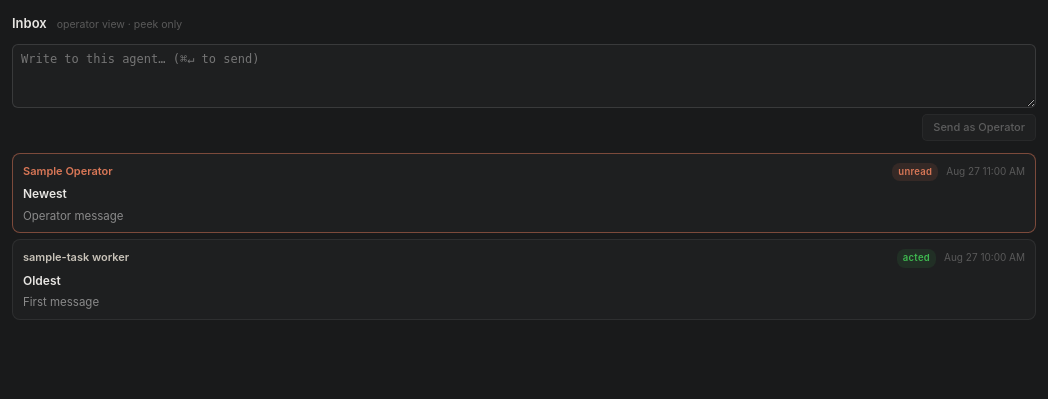
Test case: MailPane › sends operator mail with operator:true and no senderThreadRef
This screenshot has width=1048, height=399.
Expected: the text "Operator message" is shown, [23, 209, 124, 223]
Type "New instruction" into the text box named "Message to this agent" at (524, 76), box [12, 44, 1036, 108]
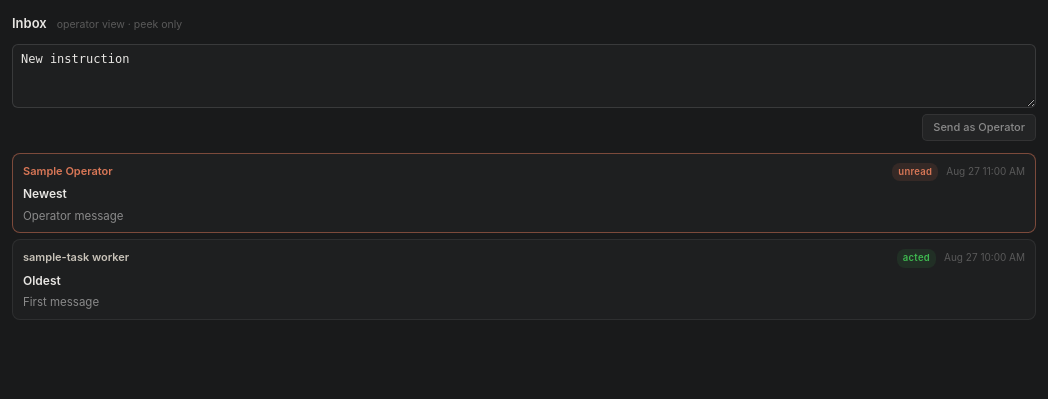
Click the button "Send as Operator" at (979, 128), box [922, 114, 1036, 141]
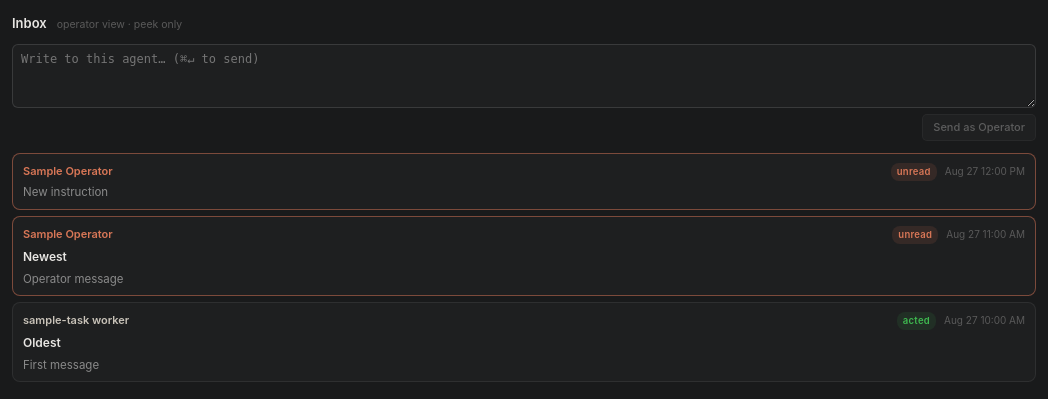
Expected: the text "New instruction" is shown, [23, 185, 108, 199]
